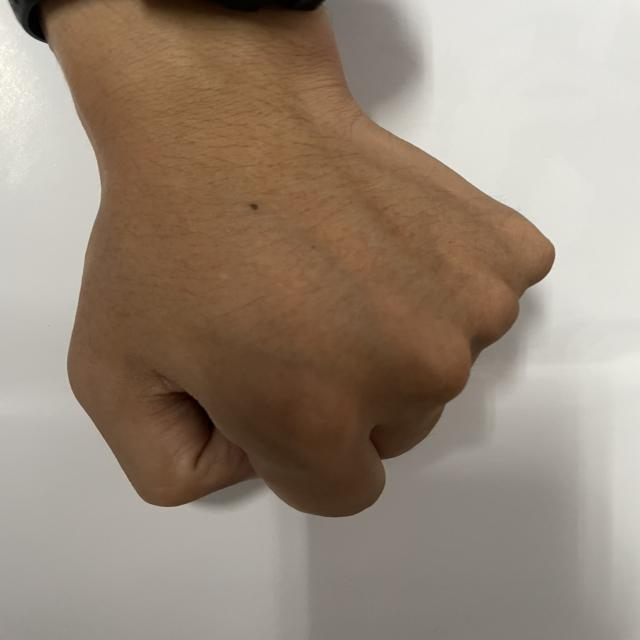Rock: (59, 116, 582, 535)
